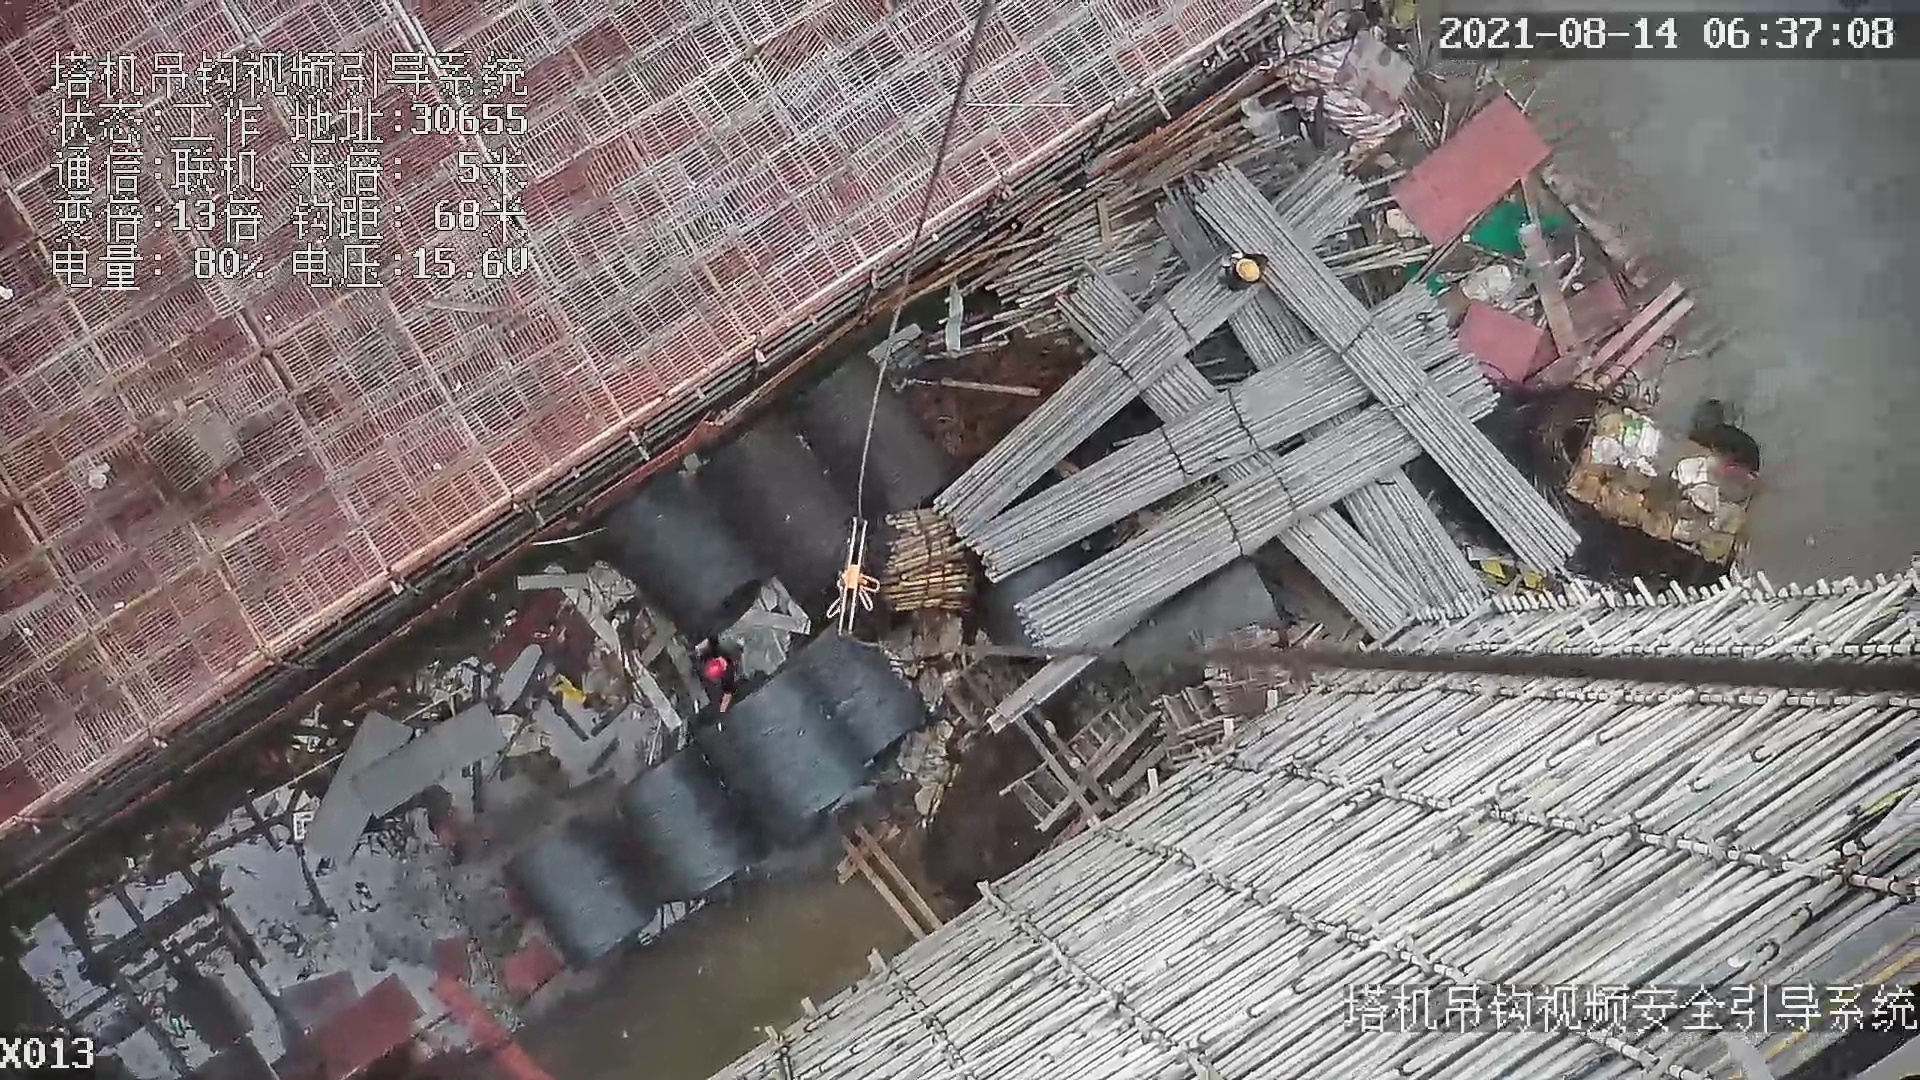helmet: (1236, 259, 1262, 285), (701, 657, 725, 683)
hook: (826, 515, 890, 633)
person: (692, 632, 738, 715), (1218, 240, 1268, 295)
scaffold: (955, 150, 1577, 619), (888, 505, 987, 633)
